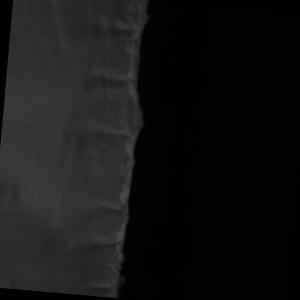Damage: (99, 1, 160, 300)
